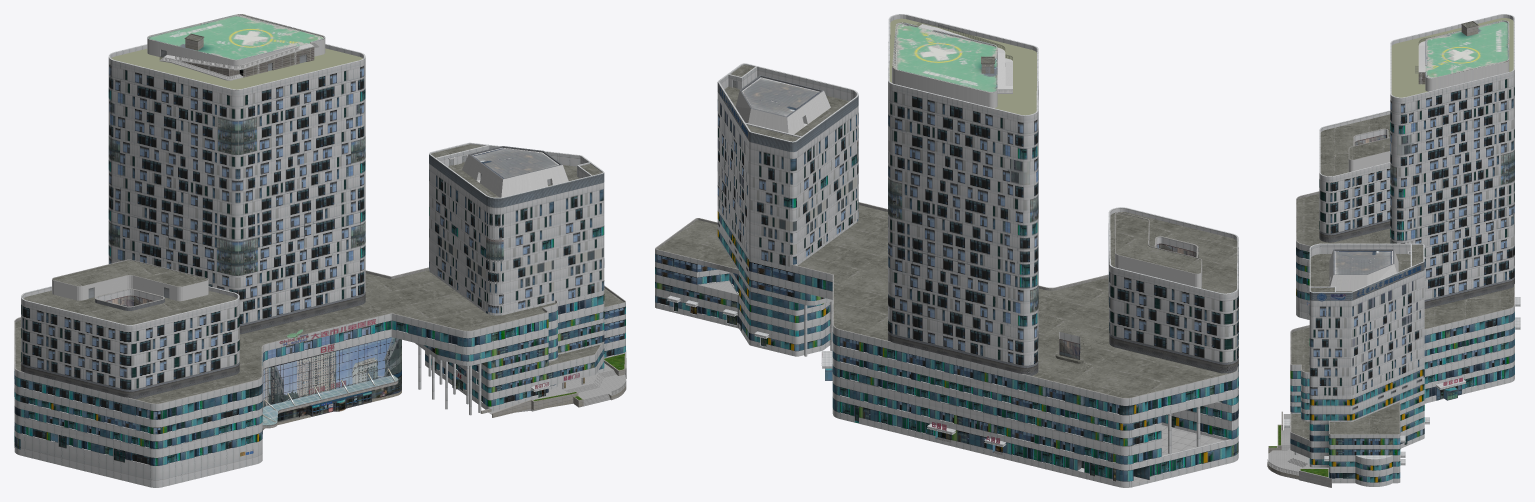
Rendered from LANDSCAPE_FACADE.glb.
3 views of the same model, side by side, from view 1: azimuth 30°, elevation 25°; view 2: azimuth 150°, elevation 25°; view 3: azimuth 270°, elevation 25° (orthographic). The views are drawn at different scales.
Visible parts, largest first — view 1: 网格_24, 网格, 网格_14, 网格_9, 网格_27, 网格_26, 网格_4, 网格_3, 网格_78, 网格_28, 网格_2, 网格_21 (+18 smaller); view 2: 网格_23, 网格, 网格_9, 网格_14, 网格_26, 网格_4, 网格_78, 网格_12, 网格_29, 网格_33, 网格_31, 网格_28 (+14 smaller); view 3: 网格_23, 网格, 网格_9, 网格_12, 网格_13, 网格_27, 网格_78, 网格_4, 网格_21, 网格_28, 网格_43, 网格_18 (+15 smaller).
Part boxes in pixels (left/top/right/bottom): 网格_24: left=108, top=57, right=365, bottom=324; 网格: left=14, top=44, right=625, bottom=487; 网格_14: left=429, top=163, right=603, bottom=313; 网格_9: left=15, top=33, right=623, bottom=403; 网格_27: left=21, top=298, right=131, bottom=389; 网格_26: left=131, top=298, right=239, bottom=389; 网格_4: left=52, top=14, right=568, bottom=301; 网格_3: left=268, top=337, right=401, bottom=422; 网格_78: left=147, top=14, right=325, bottom=60; 网格_28: left=21, top=292, right=365, bottom=399; 网格_2: left=14, top=323, right=602, bottom=449; 网格_21: left=111, top=48, right=362, bottom=89; 网格_23: left=888, top=81, right=1029, bottom=365; 网格: left=655, top=14, right=1238, bottom=487; 网格_9: left=657, top=56, right=1237, bottom=397; 网格_14: left=749, top=107, right=858, bottom=266; 网格_26: left=1110, top=266, right=1233, bottom=362; 网格_4: left=735, top=23, right=1202, bottom=288; 网格_78: left=892, top=22, right=997, bottom=92; 网格_12: left=717, top=92, right=748, bottom=285; 网格_29: left=711, top=309, right=1226, bottom=477; 网格_33: left=751, top=292, right=1238, bottom=481; 网格_31: left=697, top=273, right=1238, bottom=470; 网格_28: left=888, top=292, right=1238, bottom=375; 网格_23: left=1397, top=70, right=1514, bottom=299; 网格: left=1284, top=14, right=1520, bottom=486; 网格_9: left=1291, top=21, right=1513, bottom=439; 网格_12: left=1351, top=270, right=1423, bottom=420; 网格_13: left=1310, top=300, right=1350, bottom=420; 网格_27: left=1326, top=163, right=1390, bottom=233; 网格_78: left=1425, top=20, right=1509, bottom=78; 网格_4: left=1329, top=21, right=1509, bottom=291; 网格_21: left=1391, top=18, right=1513, bottom=97; 网格_28: left=1319, top=219, right=1514, bottom=308; 网格_43: left=1296, top=288, right=1423, bottom=482; 网格_18: left=1334, top=251, right=1392, bottom=274.
Bounding box in the file's own units: 178 × 106 × 77.84.
100 materials, 99 textured.
